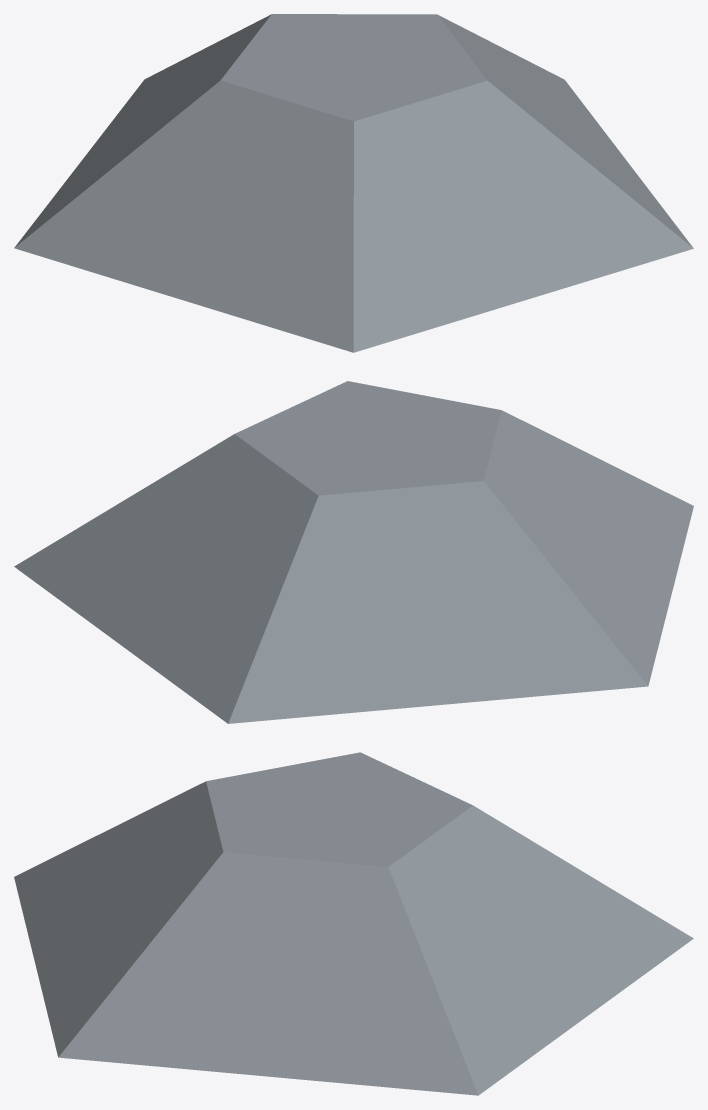
The model's file is Rock_Round_s_05.fbx.
The picture shows the model from 3 angles, top to bottom: view 1: azimuth 30°, elevation 25°; view 2: azimuth 150°, elevation 25°; view 3: azimuth 270°, elevation 25°; orthographic projection. The views are drawn at different scales.
Parts seen in each view (by area): view 1: Rocks_Round_s_05; view 2: Rocks_Round_s_05; view 3: Rocks_Round_s_05.
Part boxes in pixels (<box>): Rocks_Round_s_05: <box>14,14,693,352</box>; Rocks_Round_s_05: <box>14,381,693,723</box>; Rocks_Round_s_05: <box>14,752,693,1095</box>.
Bounding box in the file's own units: 13.19 × 3 × 12.97.
